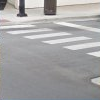crosswalk: (0, 25, 100, 57)
